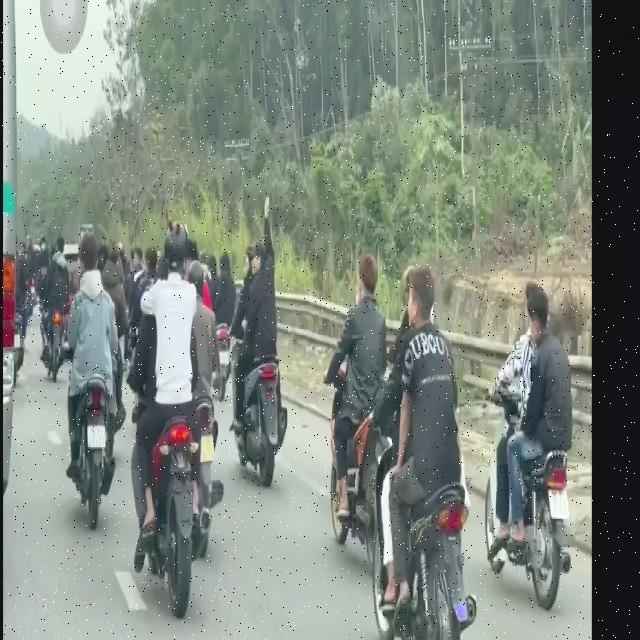helmet: (164, 212, 190, 284)
no_helmet: (408, 259, 436, 342), (527, 280, 552, 351), (358, 246, 380, 312)
